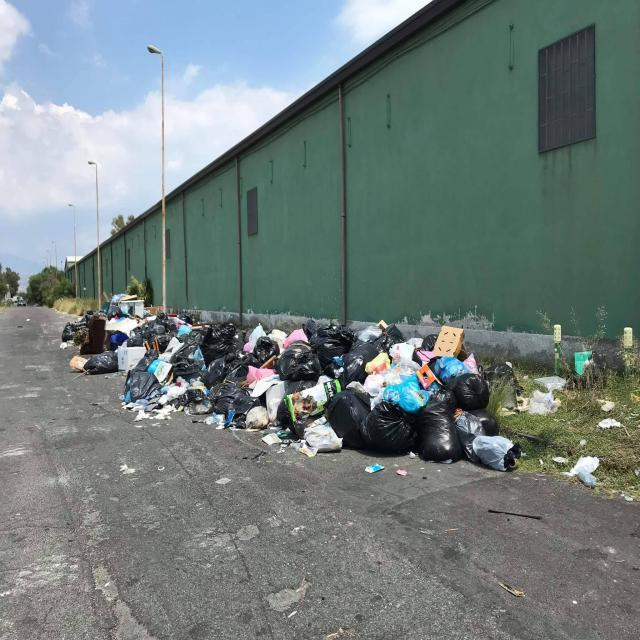garbage: (78, 310, 530, 470)
